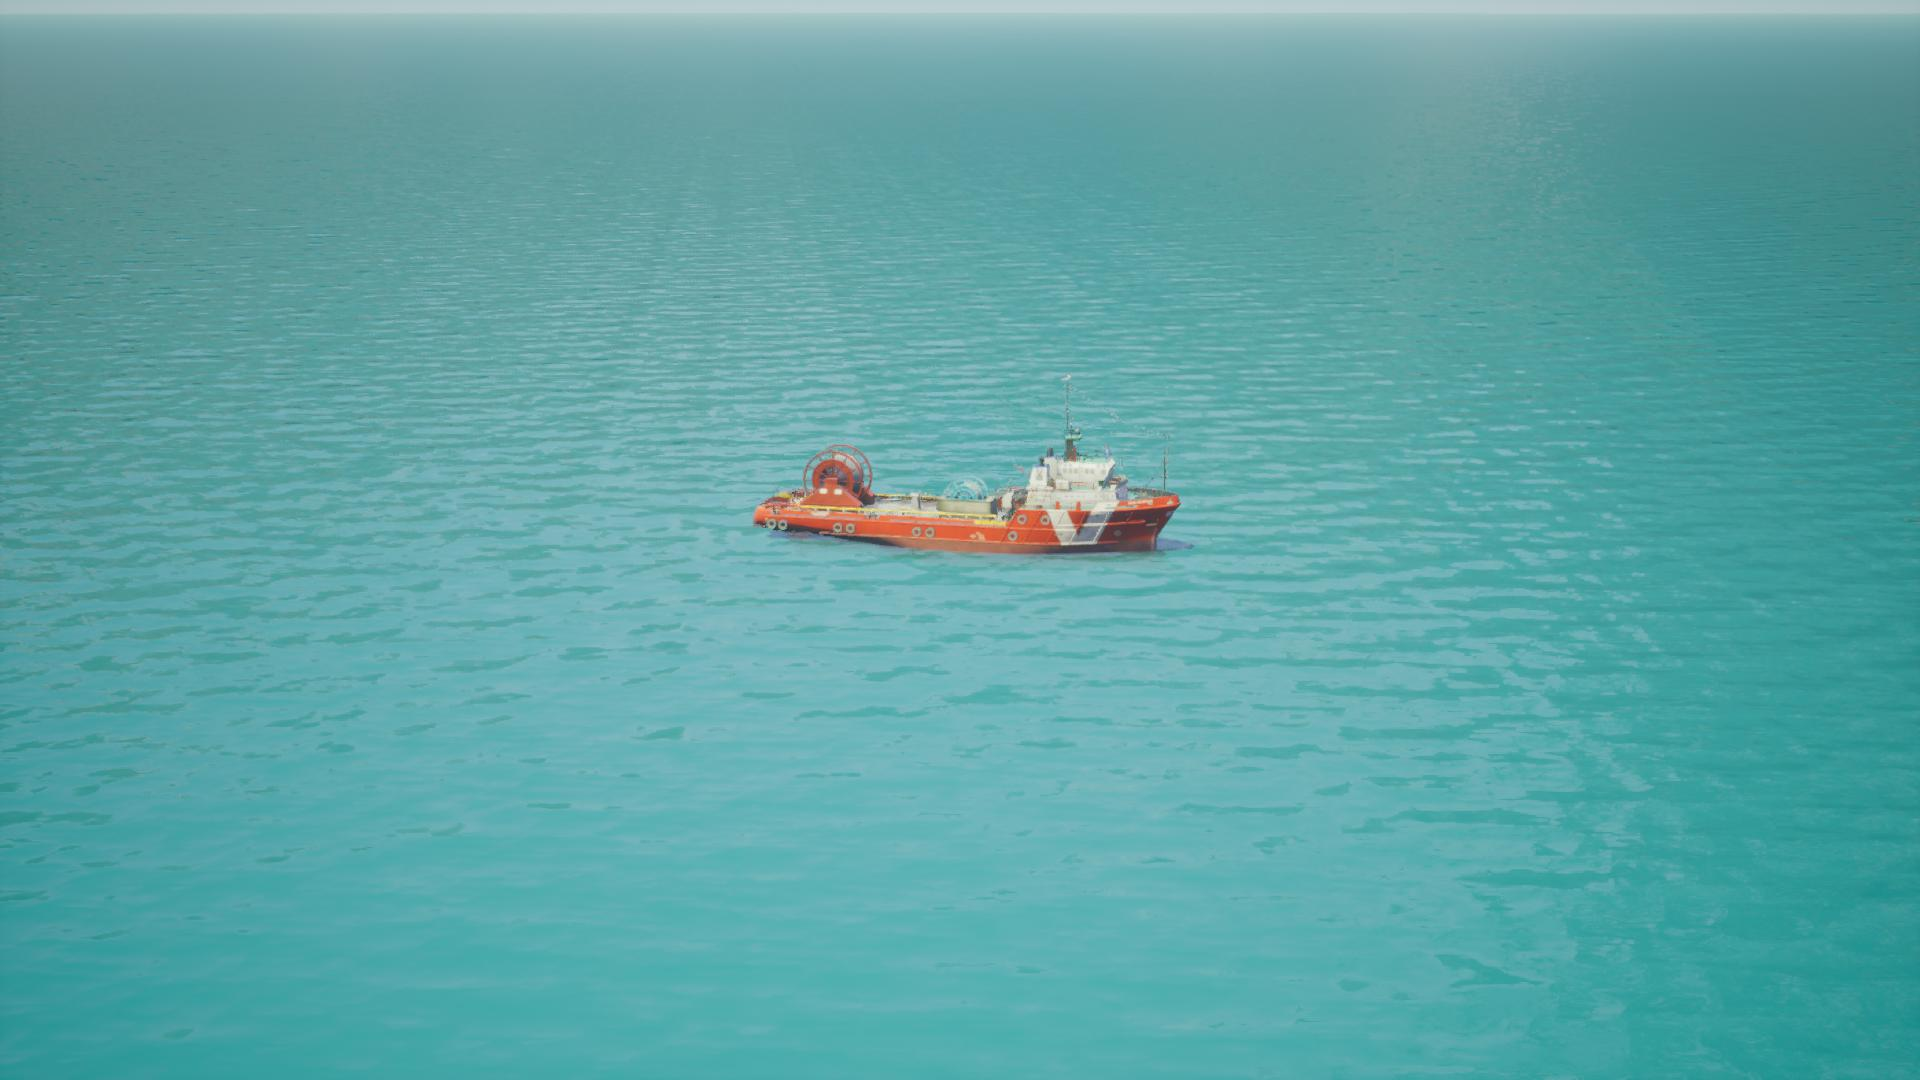Tug Boat: (740, 422, 1201, 563)
